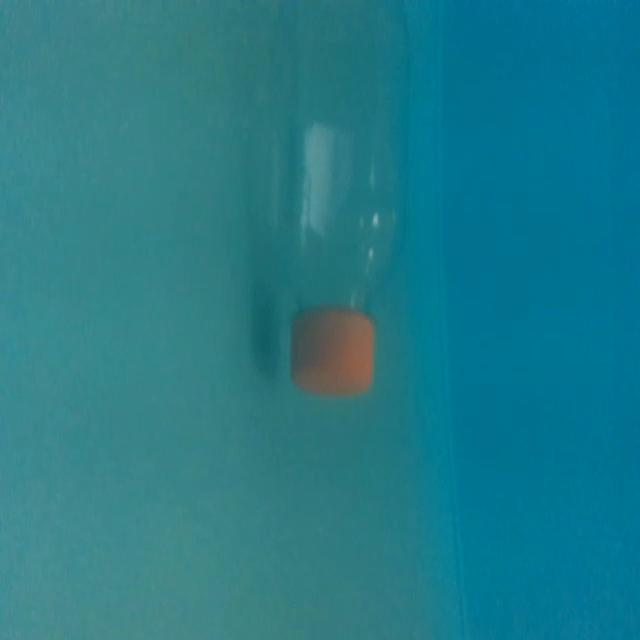plastic bottle: (276, 1, 416, 399)
